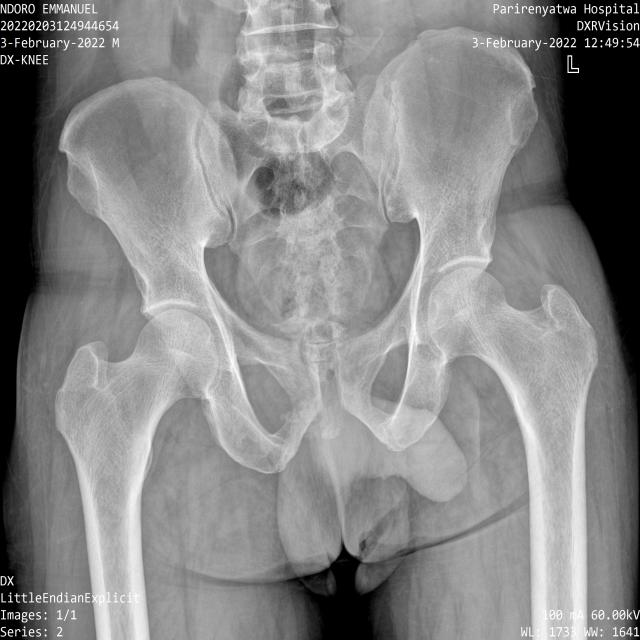normal-left: (428, 268, 598, 542)
normal-right: (55, 309, 217, 592)
